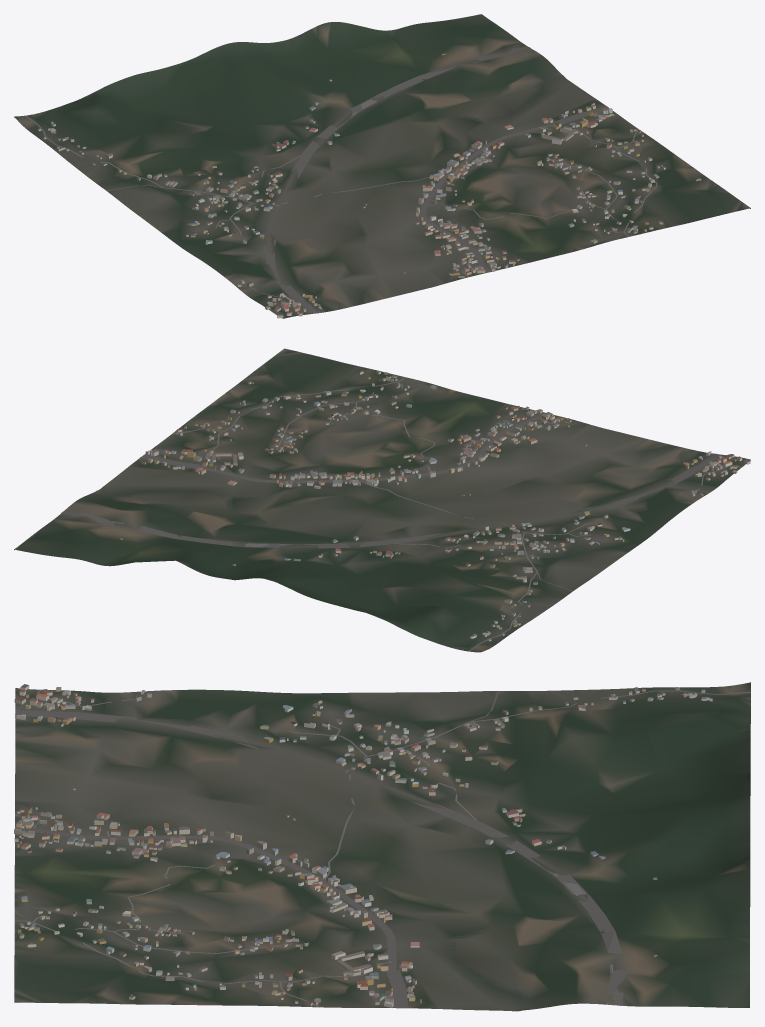
3 views of the same model, one above another, from view 1: azimuth 30°, elevation 25°; view 2: azimuth 150°, elevation 25°; view 3: azimuth 270°, elevation 25° (orthographic). The views are drawn at different scales.
Parts seen in each view (by area): view 1: ground, buildings, roads; view 2: ground, buildings, roads; view 3: ground, buildings, roads.
Boxes of the visible parts, x1=… form: ground: x1=14, y1=14, x2=750, y2=318; buildings: x1=38, y1=53, x2=701, y2=318; roads: x1=25, y1=47, x2=657, y2=313; ground: x1=14, y1=348, x2=750, y2=652; buildings: x1=120, y1=370, x2=750, y2=641; roads: x1=61, y1=377, x2=741, y2=651; ground: x1=14, y1=682, x2=750, y2=1011; buildings: x1=14, y1=684, x2=712, y2=1007; roads: x1=15, y1=689, x2=750, y2=1008.
Bounding box in the file's own units: 1412 × 102 × 1405.
